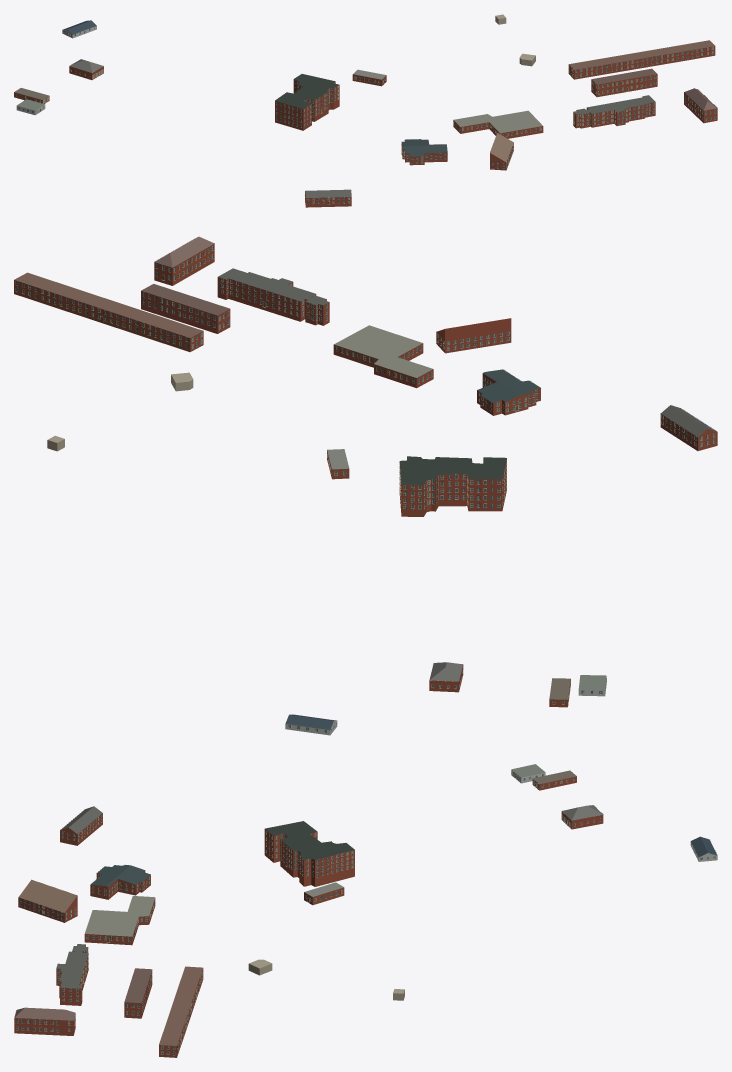
3 views of the same model, one above another, from view 1: azimuth 30°, elevation 25°; view 2: azimuth 150°, elevation 25°; view 3: azimuth 270°, elevation 25° (orthographic). The views are drawn at different scales.
Parts seen in each view (by area): view 1: -5_-1_188826782_0; view 2: -5_-1_188826782_0; view 3: -5_-1_188826782_0.
Boxes of the visible parts, bbox=[...] form: -5_-1_188826782_0: bbox=[14, 14, 717, 207]; -5_-1_188826782_0: bbox=[14, 236, 717, 733]; -5_-1_188826782_0: bbox=[14, 764, 717, 1057].
Bounding box in the file's own units: 497 × 40.25 × 449.
